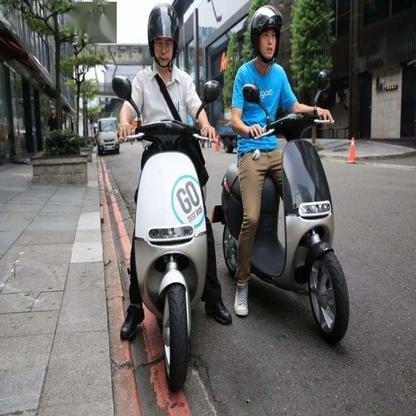target: (213, 3, 368, 348), (108, 3, 234, 396)
